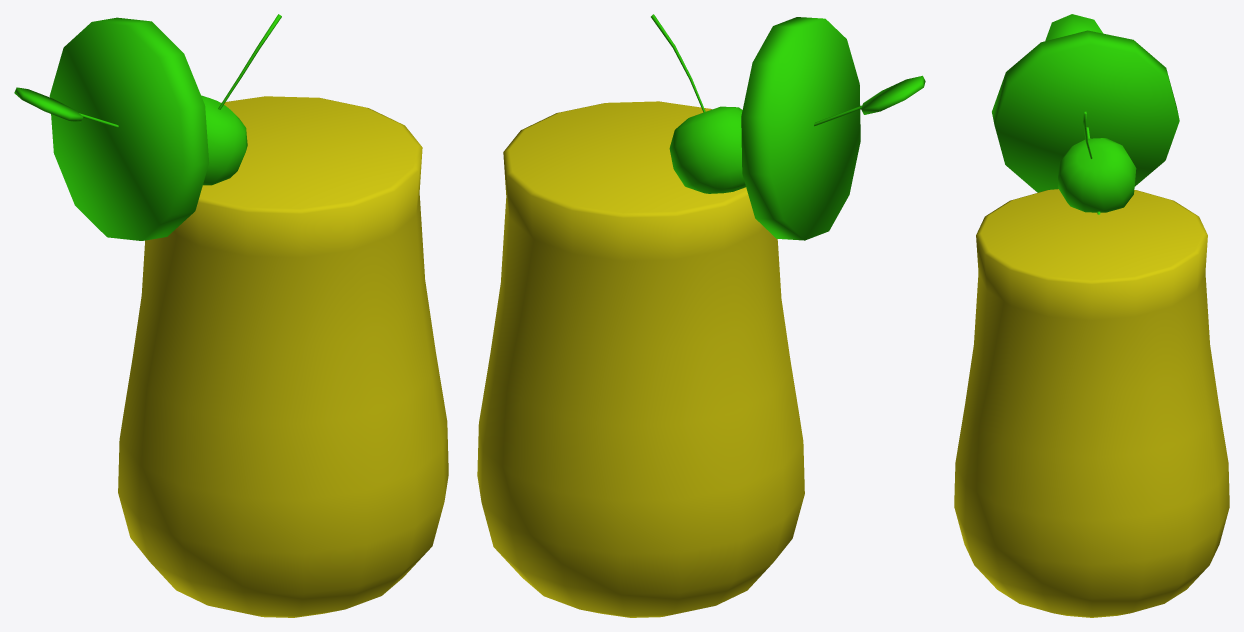
The model's file is BHP_MOD_DRI_Daiquiri.fbx.
3 renders of one model, left to right at view 1: azimuth 30°, elevation 25°; view 2: azimuth 150°, elevation 25°; view 3: azimuth 270°, elevation 25°, orthographic. The views are drawn at different scales.
Parts seen in each view (by area): view 1: BHP_MOD_Daiquiri; view 2: BHP_MOD_Daiquiri; view 3: BHP_MOD_Daiquiri.
Boxes of the visible parts, <box> form: BHP_MOD_Daiquiri: <box>14,14,448,617</box>; BHP_MOD_Daiquiri: <box>477,14,925,617</box>; BHP_MOD_Daiquiri: <box>954,14,1229,617</box>.
Size of the model in its own units: 0.1545 by 0.2167 by 0.1068.
